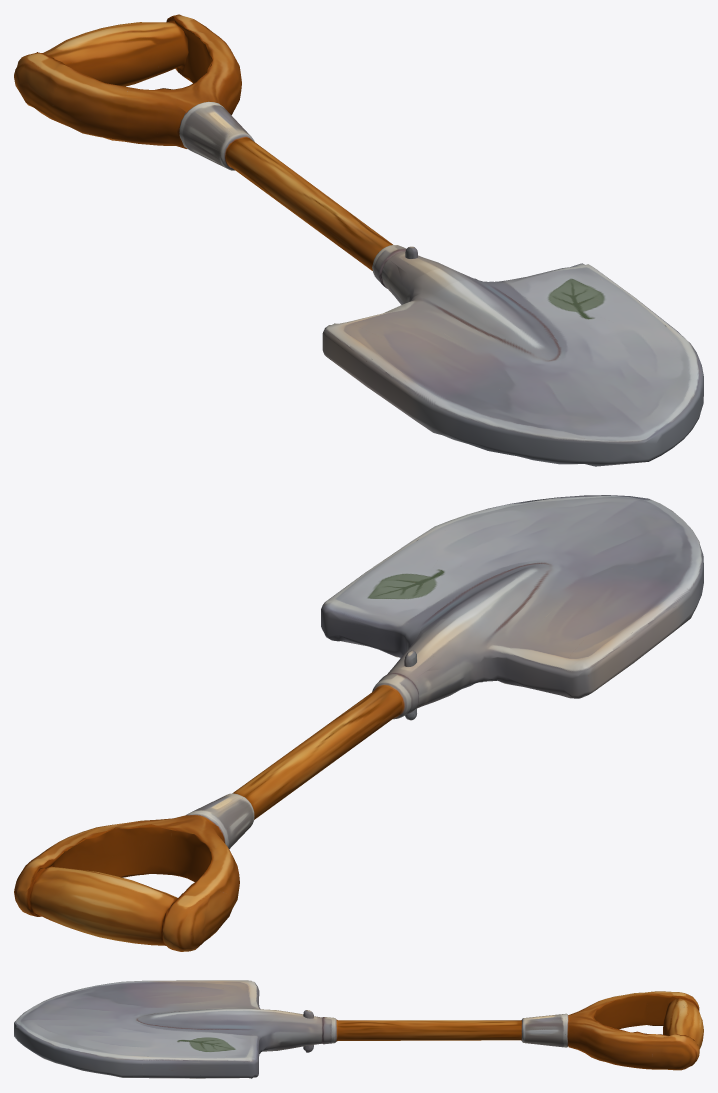
The model's file is Tool_Shovel_Stone.fbx.
The picture shows the model from 3 angles, top to bottom: view 1: azimuth 30°, elevation 25°; view 2: azimuth 150°, elevation 25°; view 3: azimuth 270°, elevation 25°; orthographic projection. The views are drawn at different scales.
Visible parts, largest first — view 1: Tool_Shovel_Stone; view 2: Tool_Shovel_Stone; view 3: Tool_Shovel_Stone.
Part boxes in pixels (x1,y1,x2,y2): Tool_Shovel_Stone: (14,14,703,466); Tool_Shovel_Stone: (14,495,703,951); Tool_Shovel_Stone: (14,980,703,1078).
Size of the model in its own units: 0.182 by 0.0436 by 0.65.
